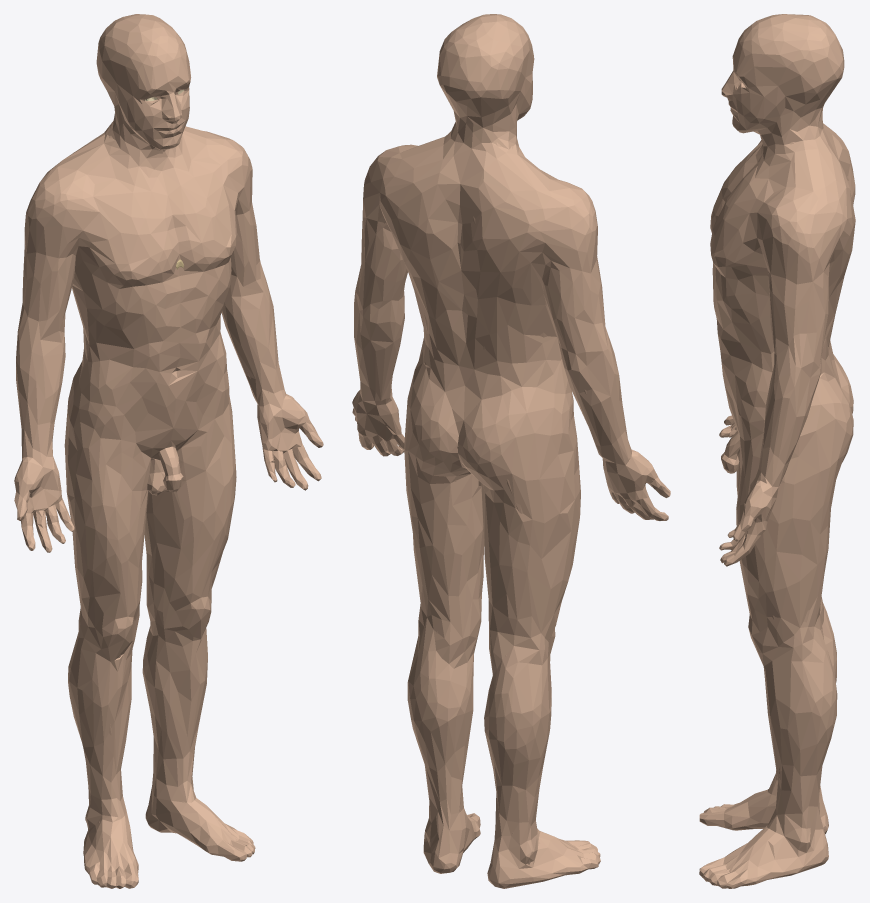
The model's file is skeleton.glb.
3 views of the same model, side by side, from view 1: azimuth 30°, elevation 25°; view 2: azimuth 150°, elevation 25°; view 3: azimuth 270°, elevation 25° (orthographic). The views are drawn at different scales.
Parts seen in each view (by area): view 1: skin; view 2: skin; view 3: skin.
Part boxes in pixels (x1,y1,x2,y2): skin: (14, 14, 323, 888); skin: (352, 14, 670, 888); skin: (699, 14, 855, 888).
Bounding box in the file's own units: 0.6672 × 1.72 × 0.2924.
